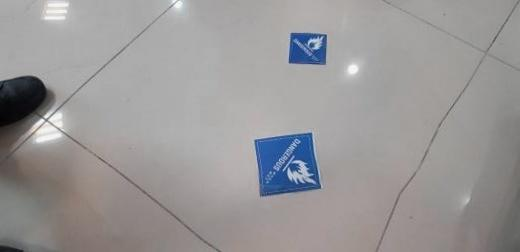dangerous-when-wet: (253, 129, 324, 199), (288, 33, 327, 66)
